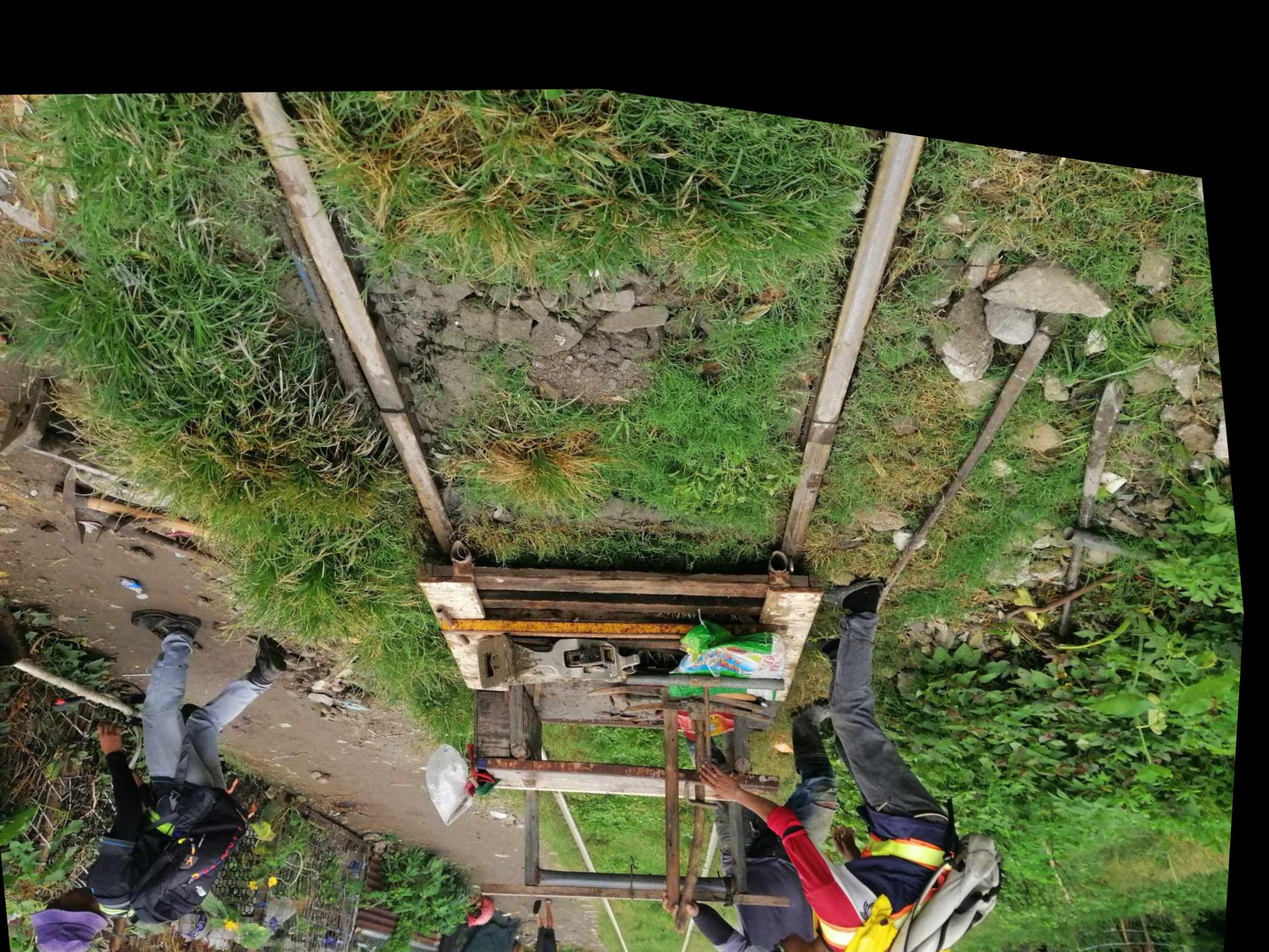person: (342, 337, 447, 456), (776, 336, 877, 451)
